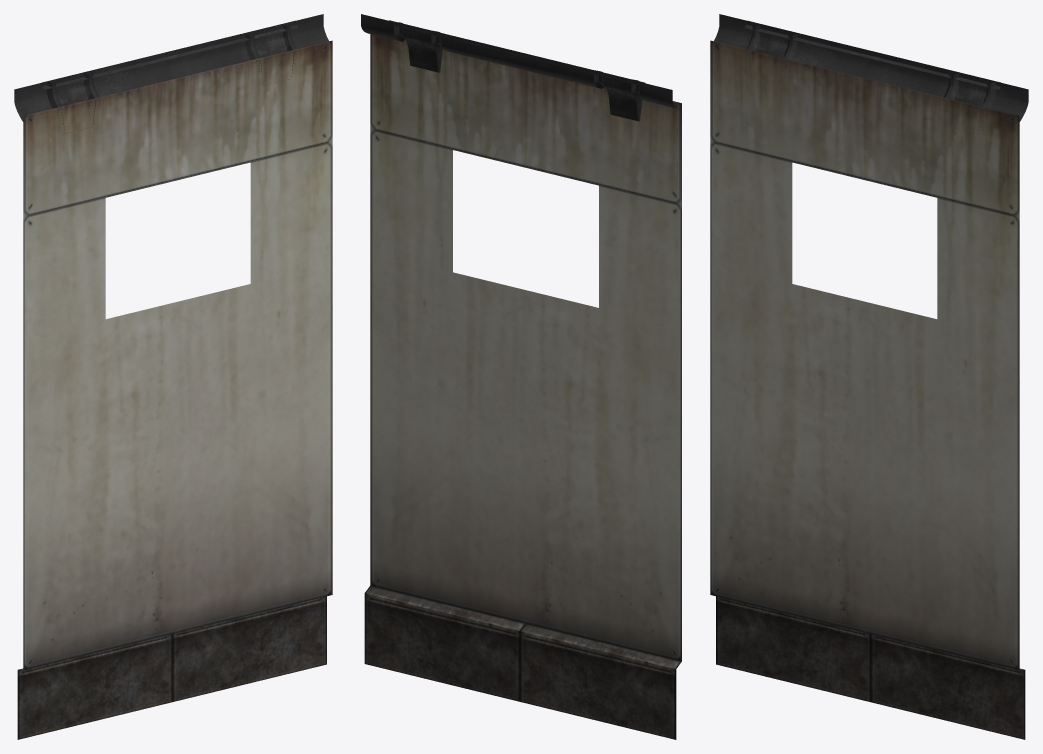
The model's file is lab_flat_short_vent_small.dae.
3 renders of one model, left to right at view 1: azimuth 30°, elevation 25°; view 2: azimuth 150°, elevation 25°; view 3: azimuth 330°, elevation 25°, orthographic.
Visible parts, largest first — view 1: lab_flat_short_vent_small; view 2: lab_flat_short_vent_small; view 3: lab_flat_short_vent_small.
Part boxes in pixels (bbox=[...]): lab_flat_short_vent_small: bbox=[14, 14, 332, 739]; lab_flat_short_vent_small: bbox=[361, 14, 681, 739]; lab_flat_short_vent_small: bbox=[710, 14, 1028, 739].
Size of the model in its own units: 2 by 4 by 0.1056.
